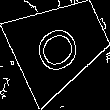O_NE: (30, 14, 90, 75)
